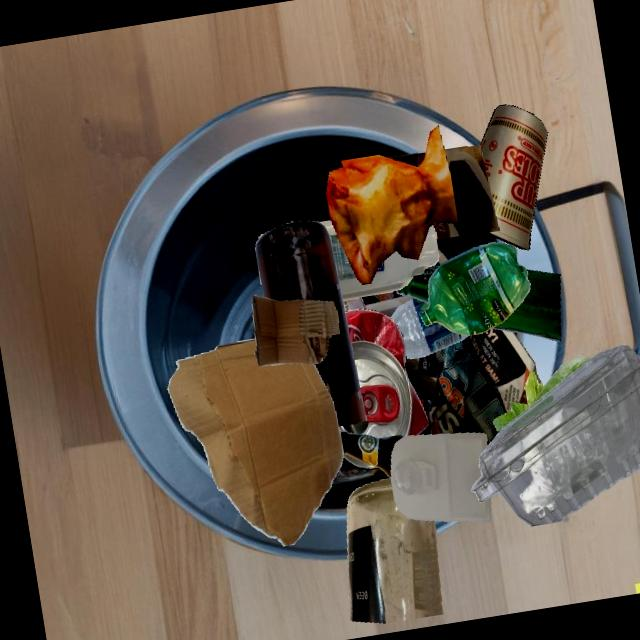biowaste: (327, 125, 459, 284), (493, 355, 591, 432)
cardboard: (168, 338, 344, 547), (252, 295, 340, 367), (432, 145, 499, 239)
glass: (255, 221, 366, 426), (347, 478, 443, 623), (491, 270, 560, 342), (340, 432, 404, 479)
metal: (339, 309, 429, 439)
paper: (404, 339, 528, 446), (410, 264, 486, 339), (343, 297, 367, 313)
plastic: (471, 345, 640, 526), (420, 242, 531, 335), (391, 433, 491, 522), (390, 298, 470, 359), (262, 235, 338, 286)
trash: (480, 105, 548, 250)
